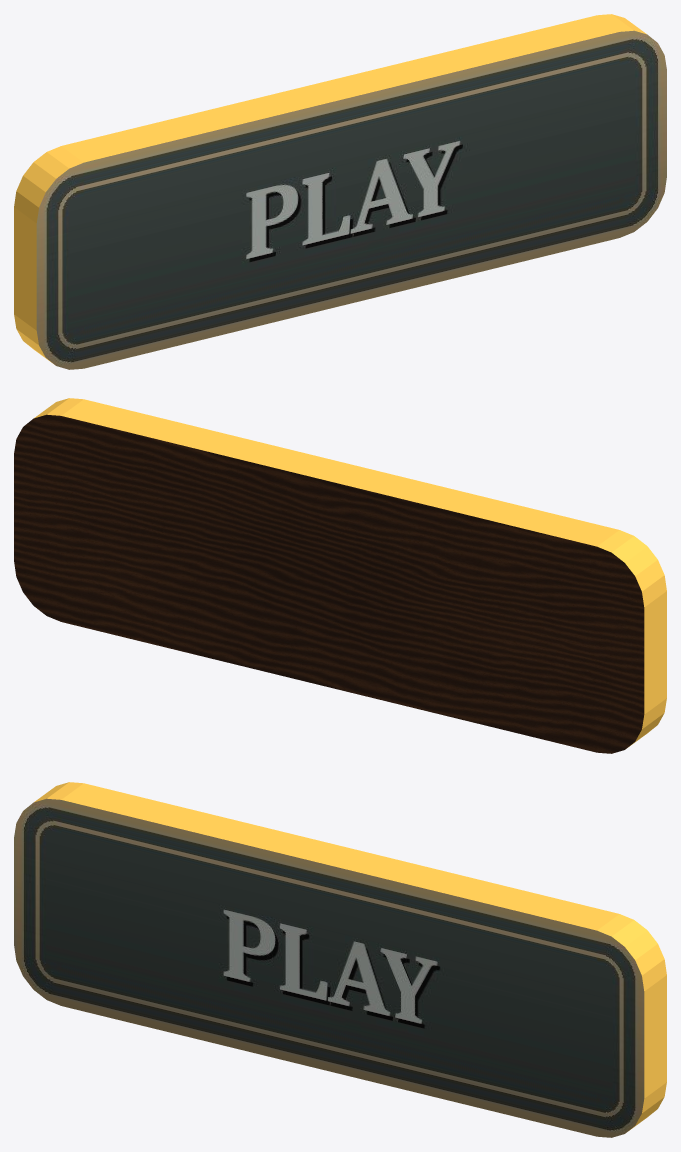
The model's file is lb4_btn_play_off.glb.
3 views of the same model, one above another, from view 1: azimuth 30°, elevation 25°; view 2: azimuth 150°, elevation 25°; view 3: azimuth 330°, elevation 25° (orthographic).
Parts seen in each view (by area): view 1: lb4_btn_play_off; view 2: lb4_btn_play_off; view 3: lb4_btn_play_off.
Part boxes in pixels (x1=…): lb4_btn_play_off: x1=14, y1=14, x2=666, y2=369; lb4_btn_play_off: x1=14, y1=398, x2=666, y2=753; lb4_btn_play_off: x1=14, y1=782, x2=666, y2=1137.
Size of the model in its own units: 0.8 by 0.25 by 0.05.
Materials: 3 (2 with a texture image).
